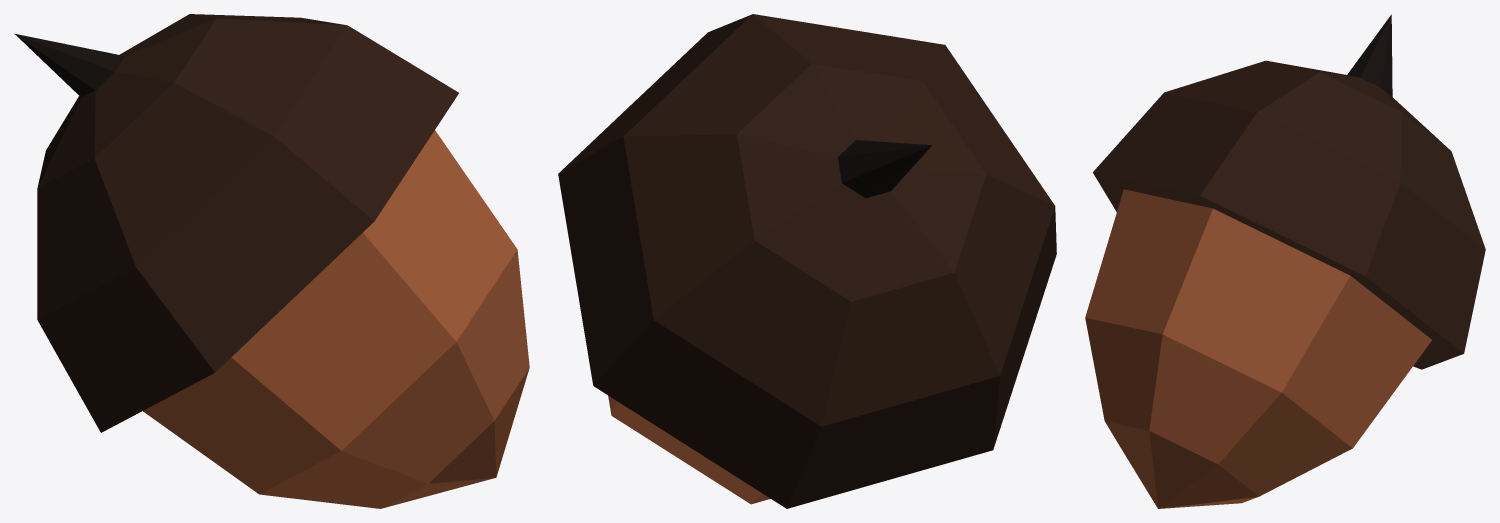
The model's file is Gland Noisette.FBX.
3 renders of one model, left to right at view 1: azimuth 30°, elevation 25°; view 2: azimuth 150°, elevation 25°; view 3: azimuth 270°, elevation 25°, orthographic. The views are drawn at different scales.
Parts seen in each view (by area): view 1: Capsule001; view 2: Capsule001; view 3: Capsule001.
Part boxes in pixels (x1=…): Capsule001: x1=14, y1=14, x2=529, y2=508; Capsule001: x1=558, y1=14, x2=1056, y2=508; Capsule001: x1=1085, y1=14, x2=1485, y2=508.
Size of the model in its own units: 3.4 by 3.53 by 3.37.
